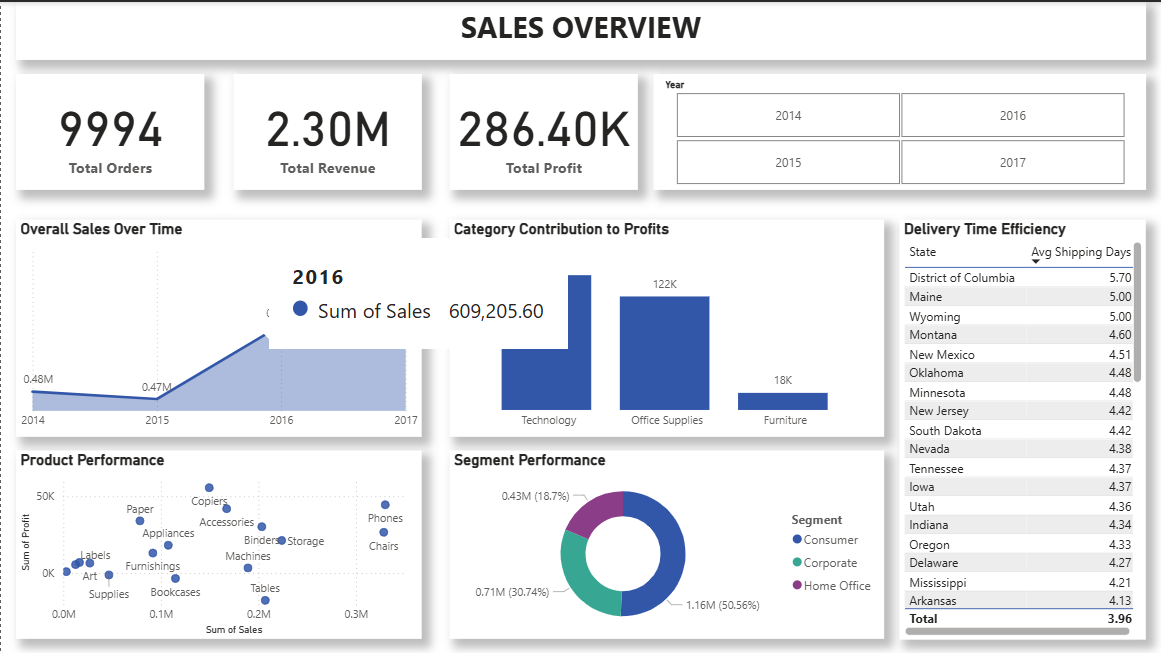

Layout of this report page (visuals, bound fields, positions):
{"tool":"powerbi","page":{"name":"Page 1","canvas":[1280,720],"ordinal":0},"visuals":[{"type":"textbox","box":[16,0,1248,64],"z":0},{"type":"card","fields":{"Values":["CountNonNull(Orders.Order ID)"]},"box":[16,80,208,128],"z":1},{"type":"card","fields":{"Values":["Sum(Orders.Sales)"]},"box":[256,80,208,128],"z":2},{"type":"card","fields":{"Values":["Sum(Orders.Profit)"]},"box":[496,80,208,128],"z":3},{"type":"lineChart","title":"Overall Sales Over Time","fields":{"Category":["Orders.Order Date.Variation.Date Hierarchy.Year","Orders.Order Date.Variation.Date Hierarchy.Month"],"Y":["Sum(Orders.Sales)"]},"box":[16,240,448,240],"z":4},{"type":"clusteredColumnChart","title":"Category Contribution to Profits","fields":{"Category":["Orders.Category"],"Y":["Sum(Orders.Profit)"]},"box":[496,240,480,240],"z":5},{"type":"scatterChart","title":"Product Performance","fields":{"X":["Sum(Orders.Sales)"],"Y":["Sum(Orders.Profit)"],"Category":["Orders.Sub-Category"]},"box":[16,496,448,208],"z":6},{"type":"donutChart","title":"Segment Performance","fields":{"Category":["Orders.Segment"],"Y":["Sum(Orders.Sales)"]},"box":[496,496,480,208],"z":7},{"type":"slicer","fields":{"Values":["Orders.Order Date.Variation.Date Hierarchy.Year"]},"box":[720,80,544,128],"z":8},{"type":"tableEx","title":"Delivery Time Efficiency","fields":{"Values":["Orders.State","Avg(Orders.Shipping Days)"]},"box":[992,240,272,464],"z":9}]}

Visuals, with their boxes in screenshot pixels (x1, y1, x2, y2), scaled from the page's 1280x720 canvas onto the 1161x653 screenshot:
textbox: (15,0,1146,58)
card - CountNonNull(Orders.Order ID): (15,73,203,189)
card - Sum(Orders.Sales): (232,73,421,189)
card - Sum(Orders.Profit): (450,73,639,189)
"Overall Sales Over Time" lineChart: (15,218,421,435)
"Category Contribution to Profits" clusteredColumnChart: (450,218,885,435)
"Product Performance" scatterChart: (15,450,421,638)
"Segment Performance" donutChart: (450,450,885,638)
slicer - Orders.Order Date.Variation.Date Hierarchy.Year: (653,73,1146,189)
"Delivery Time Efficiency" tableEx: (900,218,1146,638)
